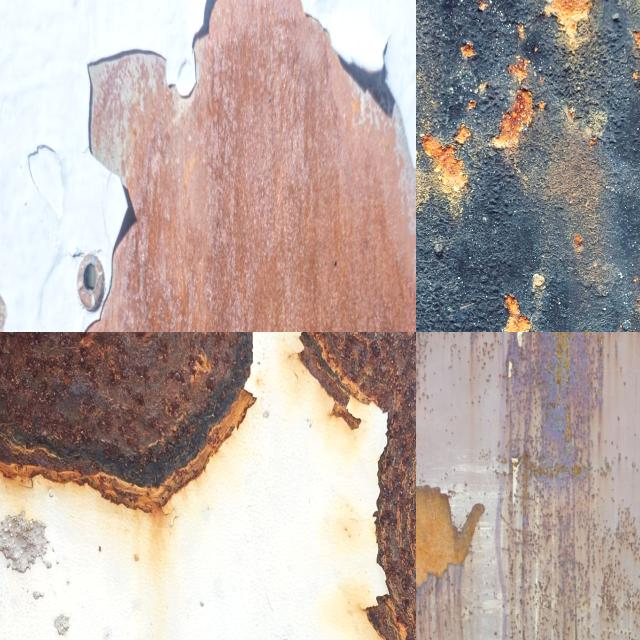Pitting Corrosion: (299, 332, 416, 640)
Uniform Corrosion: (86, 0, 416, 332), (416, 485, 484, 586), (416, 124, 469, 204), (544, 0, 598, 58), (491, 89, 535, 151), (502, 294, 532, 332)
